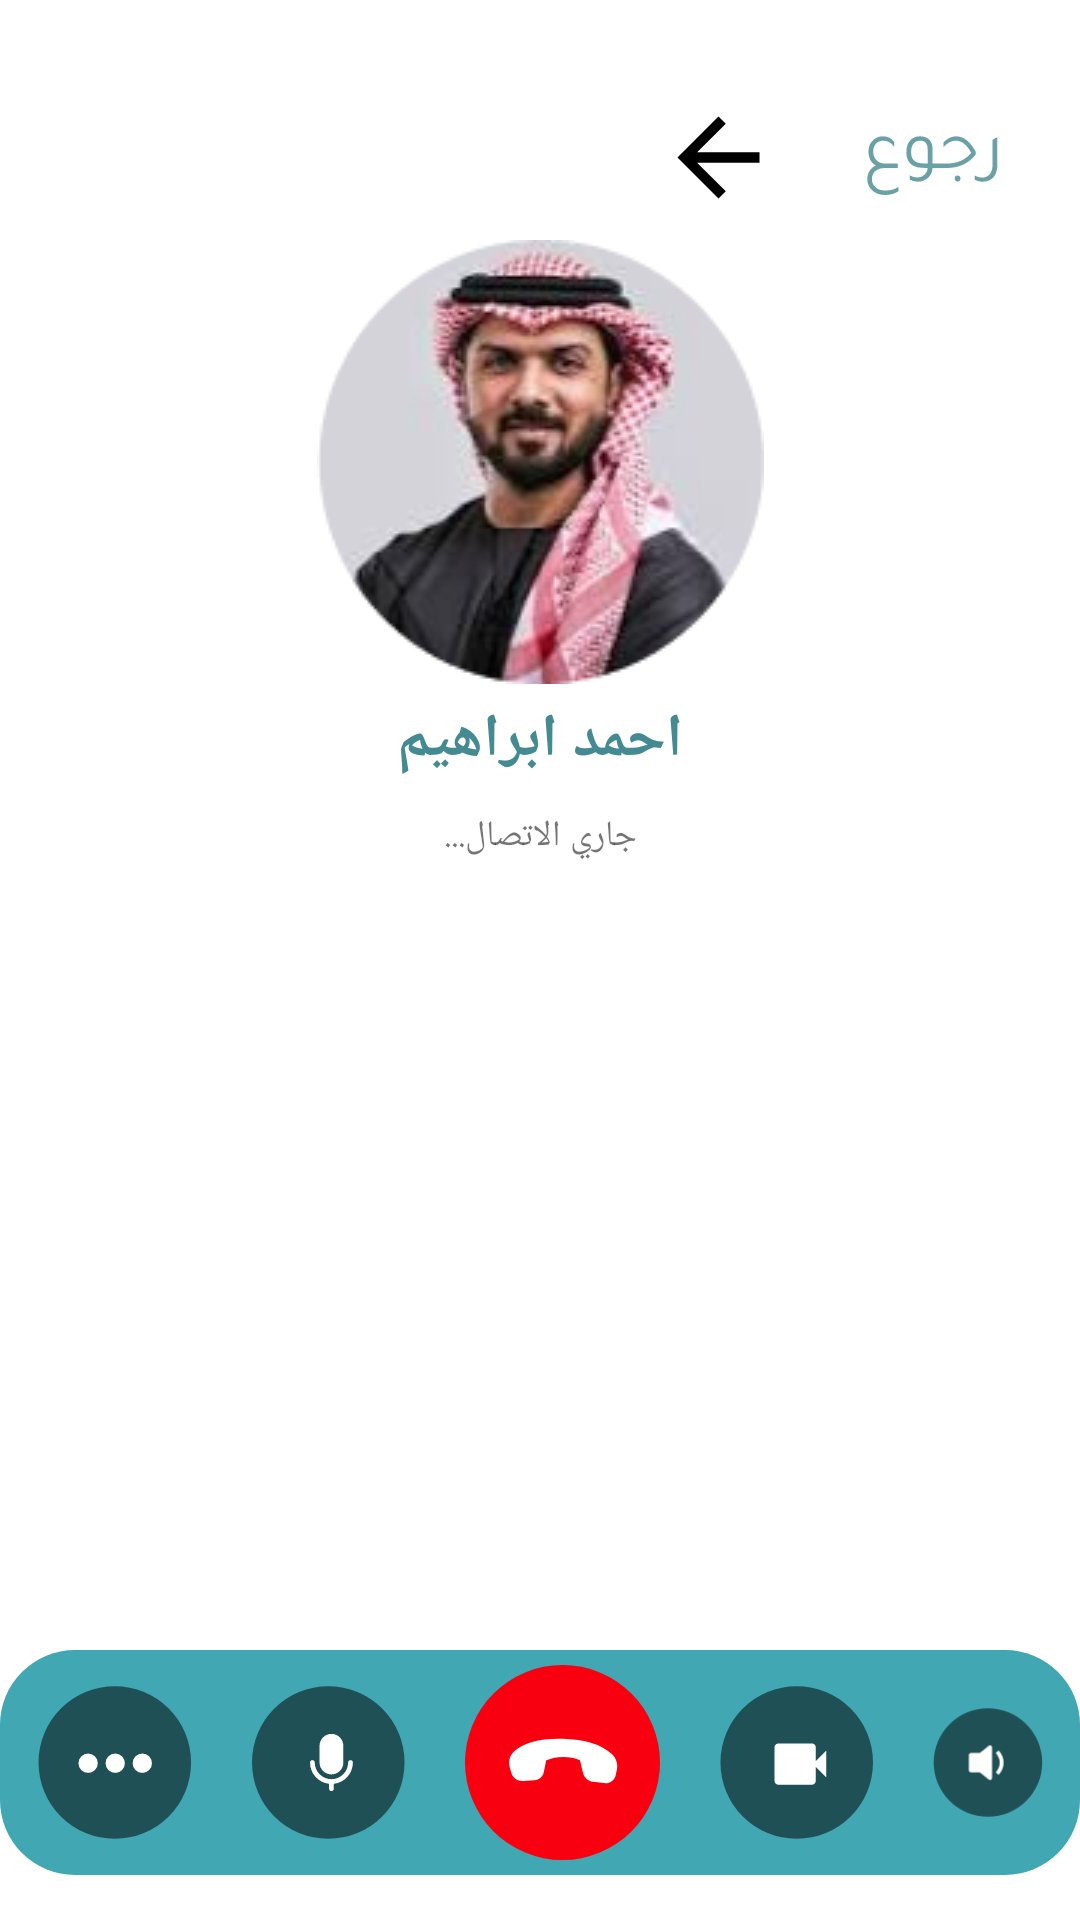

Named icons in this screenshot (1080*1920) and their bounding boxes, box=[x1, y1, x2, y2]:
end call: box=[465, 1665, 660, 1860]
mike: box=[252, 1686, 405, 1839]
options: box=[38, 1686, 191, 1839]
speaker: box=[933, 1708, 1042, 1817]
video call: box=[720, 1686, 873, 1839]
